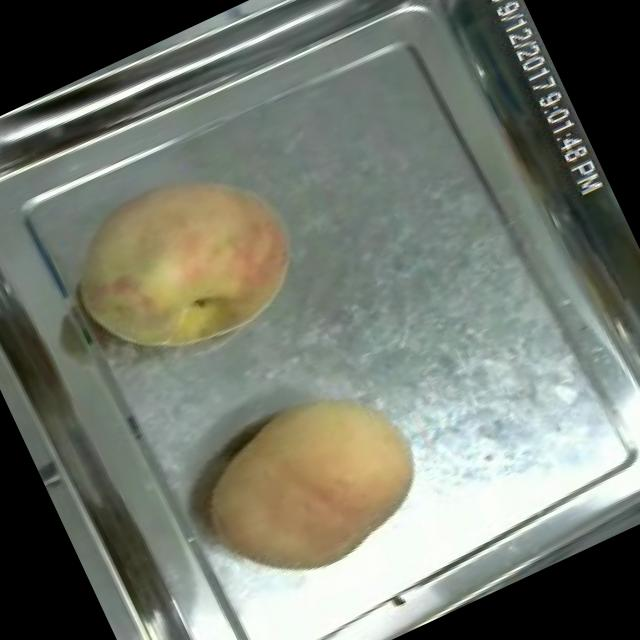Fruit: (42, 132, 326, 392), (176, 356, 452, 612)
